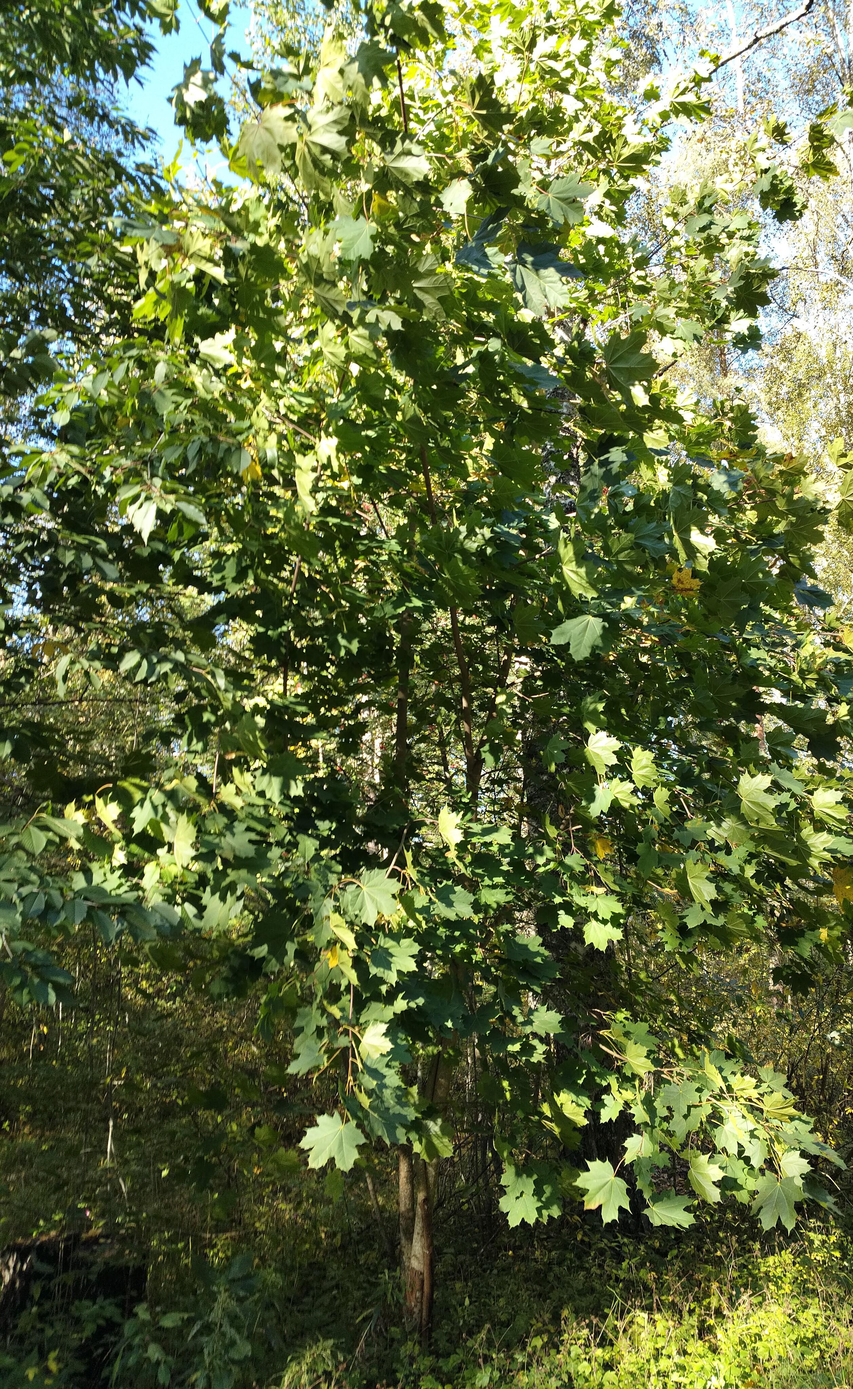Maple: (108, 1, 731, 1267)
